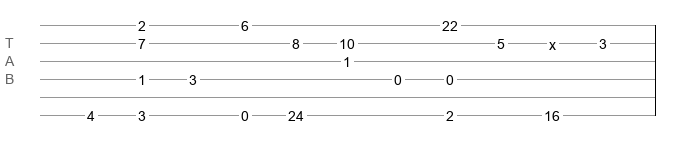0: (241, 108, 249, 118), (394, 72, 402, 82), (446, 72, 454, 82)
1: (138, 72, 146, 82), (343, 54, 351, 64)
10: (339, 36, 355, 46)
16: (544, 108, 560, 118)
2: (138, 18, 146, 28), (446, 108, 454, 118)
22: (442, 18, 458, 28)
24: (288, 108, 304, 118)
3: (138, 108, 146, 118), (189, 72, 197, 82), (599, 36, 607, 46)
4: (87, 108, 95, 118)
5: (497, 36, 505, 46)
6: (241, 18, 249, 28)
7: (138, 36, 146, 46)
8: (292, 36, 300, 46)
x: (549, 37, 556, 45)
